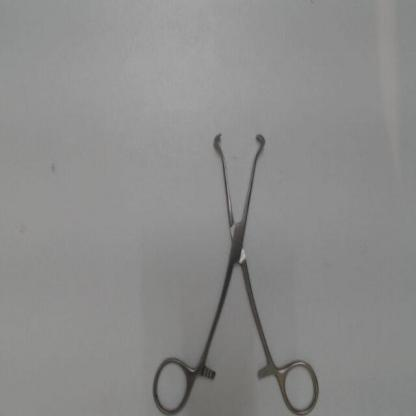Babcock Tissue Forceps: (145, 121, 326, 415)
